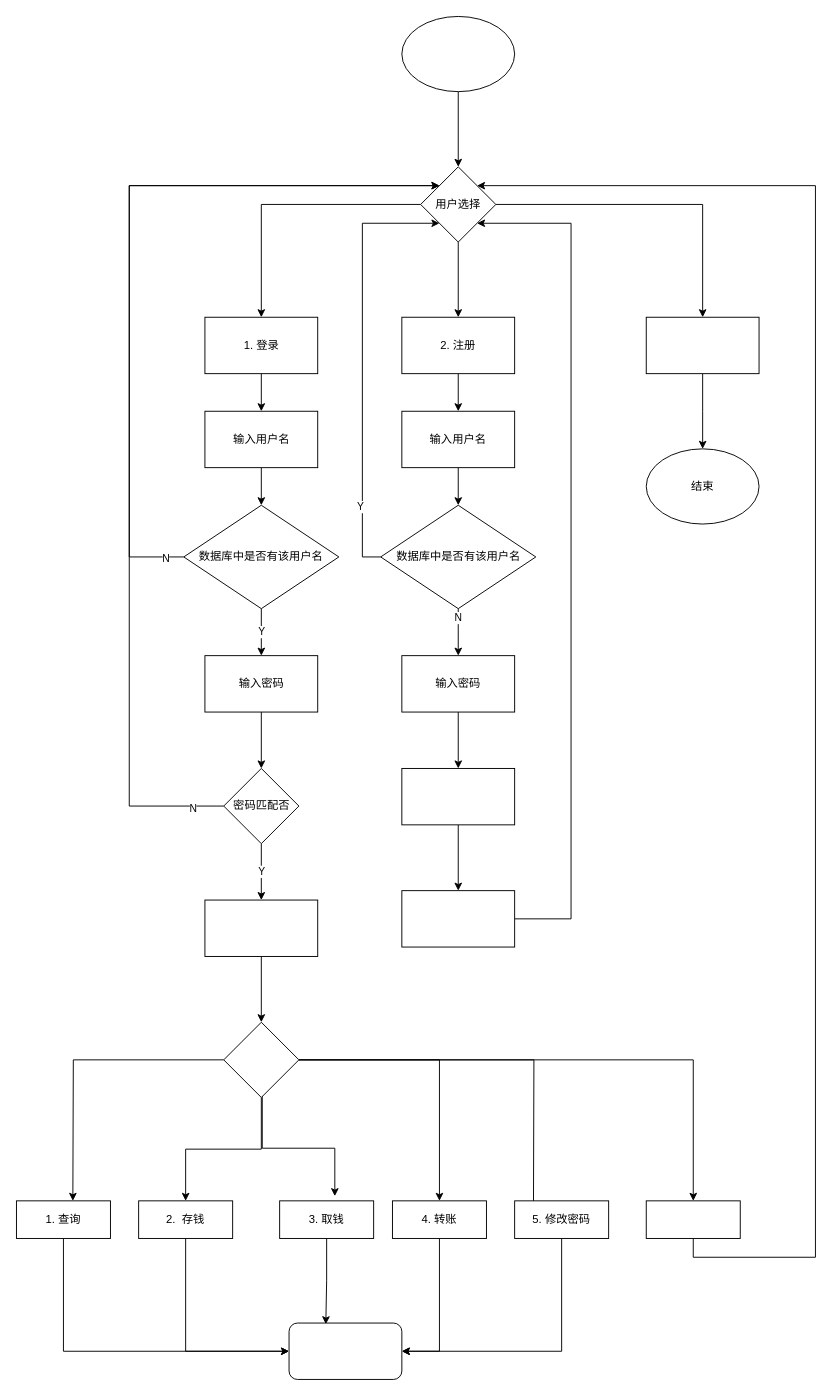
Image size: 839x1396. Some labels were removed from this diagram. Each missing label, with the box of its shape:
3. 退出: (645, 316, 759, 374)
6. 返回上一步: (645, 1200, 740, 1238)
代码逻辑..: (288, 1322, 402, 1379)
开始: (401, 16, 515, 92)
数据初始化: (401, 890, 515, 947)
更多选项: (223, 1021, 299, 1097)
注册成功,提示用户重新登录: (401, 768, 515, 825)
登陆成功: (204, 899, 318, 956)
